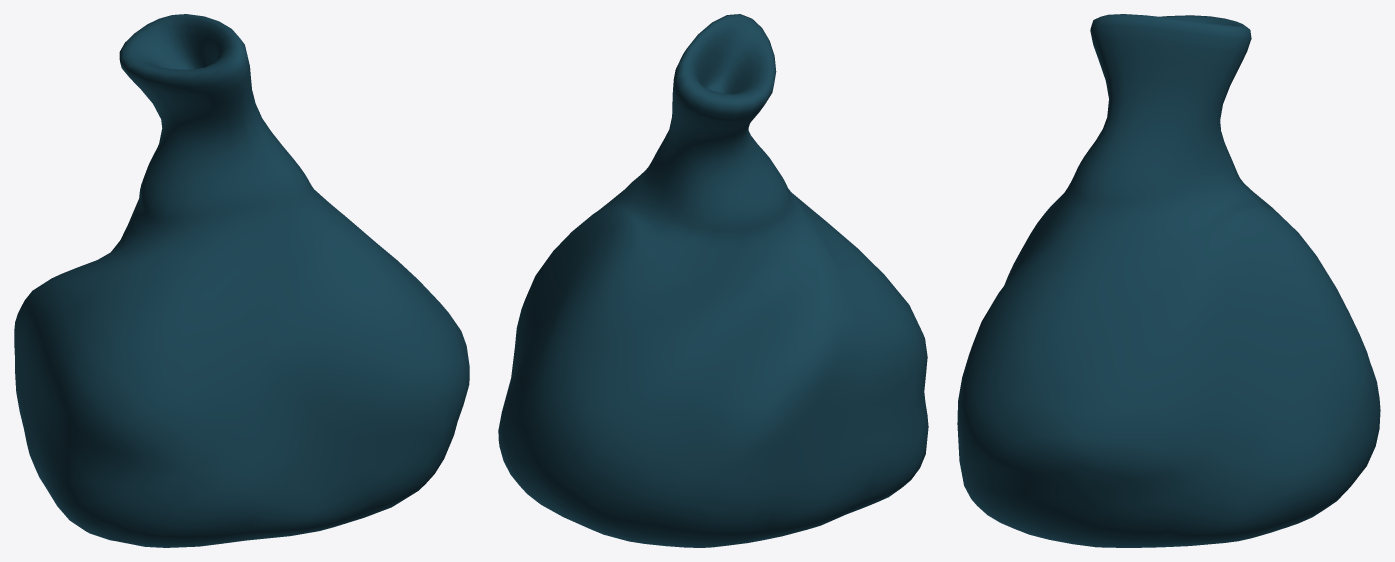
File: Trash.fbx
The picture shows the model from 3 angles, left to right: view 1: azimuth 30°, elevation 25°; view 2: azimuth 150°, elevation 25°; view 3: azimuth 270°, elevation 25°; orthographic projection. The views are drawn at different scales.
Visible parts, largest first — view 1: Icosphere; view 2: Icosphere; view 3: Icosphere.
Part boxes in pixels (x1=…): Icosphere: x1=14, y1=14, x2=469, y2=547; Icosphere: x1=498, y1=14, x2=928, y2=547; Icosphere: x1=957, y1=14, x2=1380, y2=547.
Bounding box in the file's own units: 188 × 221 × 177.
